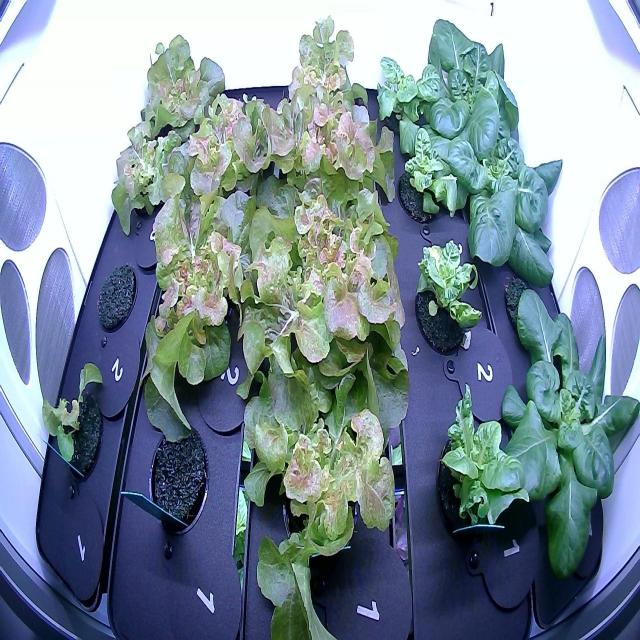pod: (137, 416, 215, 539), (89, 251, 142, 340)
young: (486, 278, 639, 608), (440, 102, 570, 312), (412, 0, 529, 163), (402, 227, 489, 372), (385, 125, 461, 238), (371, 47, 440, 128)
